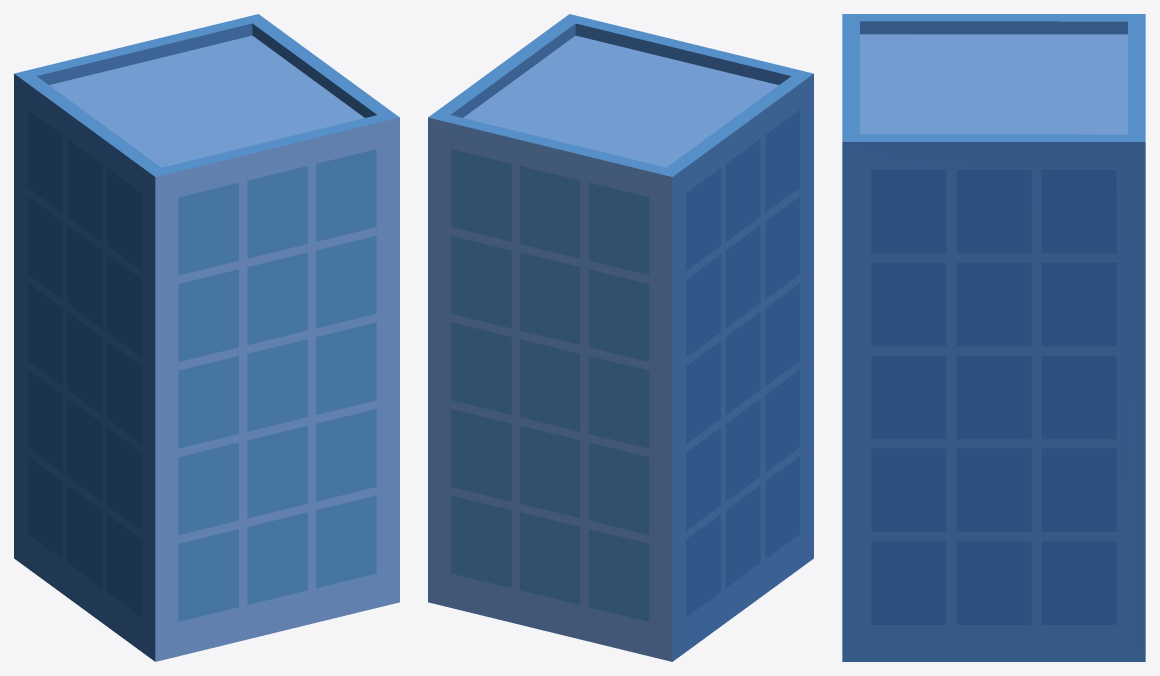
File: bulding_decor.fbx
3 renders of one model, left to right at view 1: azimuth 30°, elevation 25°; view 2: azimuth 150°, elevation 25°; view 3: azimuth 270°, elevation 25°, orthographic. The views are drawn at different scales.
Visible parts, largest first — view 1: bulding_decor; view 2: bulding_decor; view 3: bulding_decor.
Boxes of the visible parts, <box> form: bulding_decor: <box>14,14,399,661</box>; bulding_decor: <box>428,14,813,661</box>; bulding_decor: <box>842,14,1145,661</box>.
Bounding box in the file's own units: 654 × 1240 × 656.
